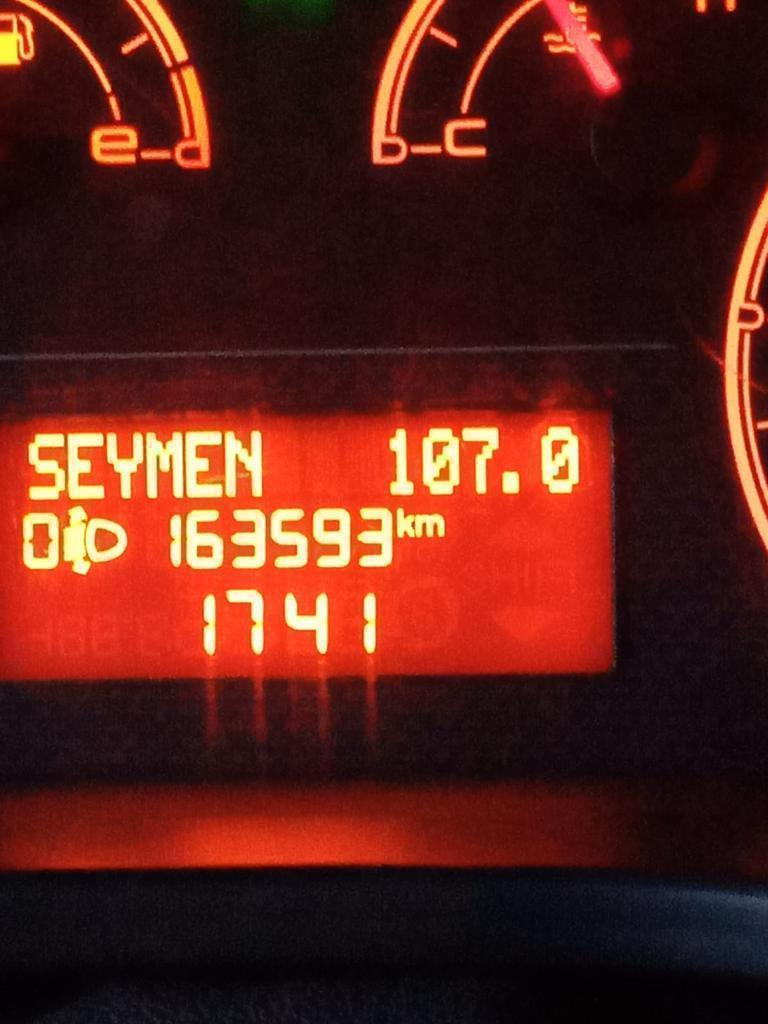,: (497, 467, 523, 498)
0: (536, 423, 582, 497), (421, 424, 460, 496), (20, 509, 60, 572)
1: (386, 426, 415, 499), (199, 588, 221, 659), (362, 588, 378, 659), (166, 510, 184, 570)
3: (229, 507, 267, 570), (356, 507, 394, 568)
4: (283, 591, 336, 659)
5: (270, 506, 309, 568)
6: (185, 507, 224, 573)
7: (460, 424, 501, 497), (225, 586, 266, 657)
9: (312, 504, 352, 568)
X: (26, 429, 65, 502), (223, 429, 263, 499), (144, 429, 183, 500), (184, 429, 223, 499), (105, 429, 143, 500), (67, 429, 104, 501), (414, 513, 446, 539), (394, 505, 414, 539)
odometer: (0, 395, 630, 696)
